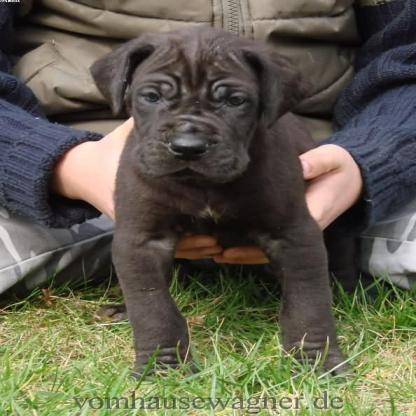Great_Dane: (89, 26, 355, 382)
